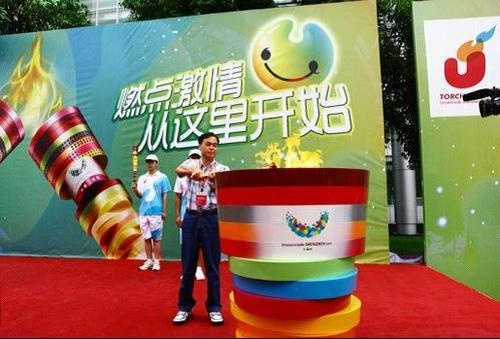fire: (252, 134, 323, 166)
